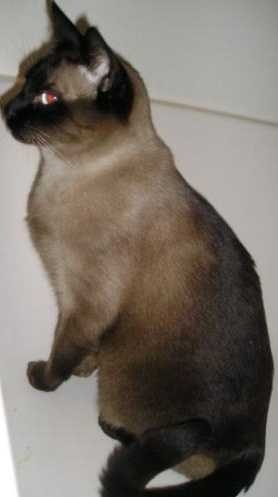Cat: (0, 1, 273, 475)
